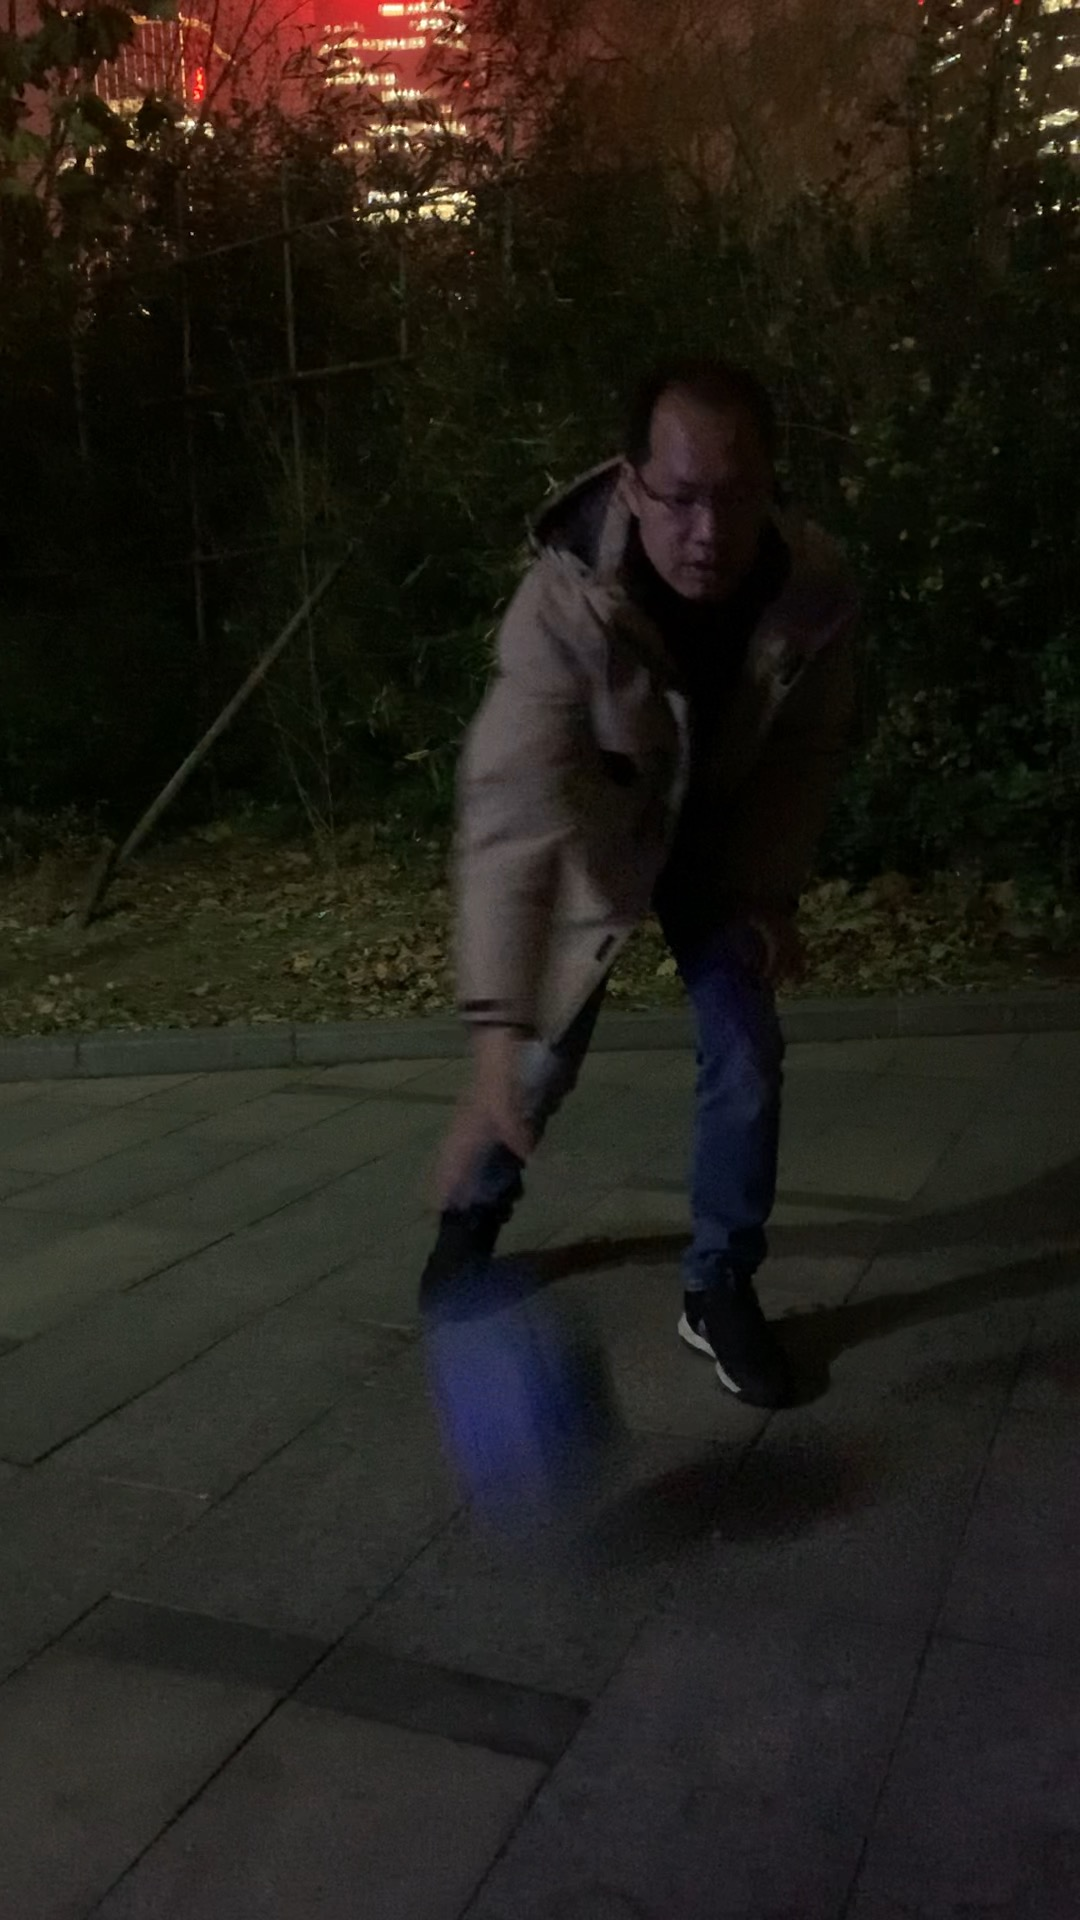ball: (434, 1302, 624, 1494)
